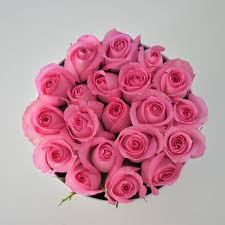lale: (96, 23, 143, 69), (30, 132, 77, 176), (63, 32, 106, 78), (151, 57, 198, 96), (36, 62, 77, 106), (85, 138, 133, 175), (22, 104, 67, 143), (59, 103, 104, 142), (63, 164, 107, 203), (107, 165, 147, 207), (170, 92, 211, 132), (127, 95, 174, 127), (120, 128, 166, 160), (117, 61, 158, 96), (163, 125, 199, 164), (134, 157, 177, 187), (62, 82, 107, 109), (89, 70, 127, 101), (100, 98, 133, 132), (139, 42, 163, 68)
